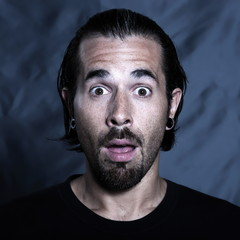young: (53, 17, 190, 185)
